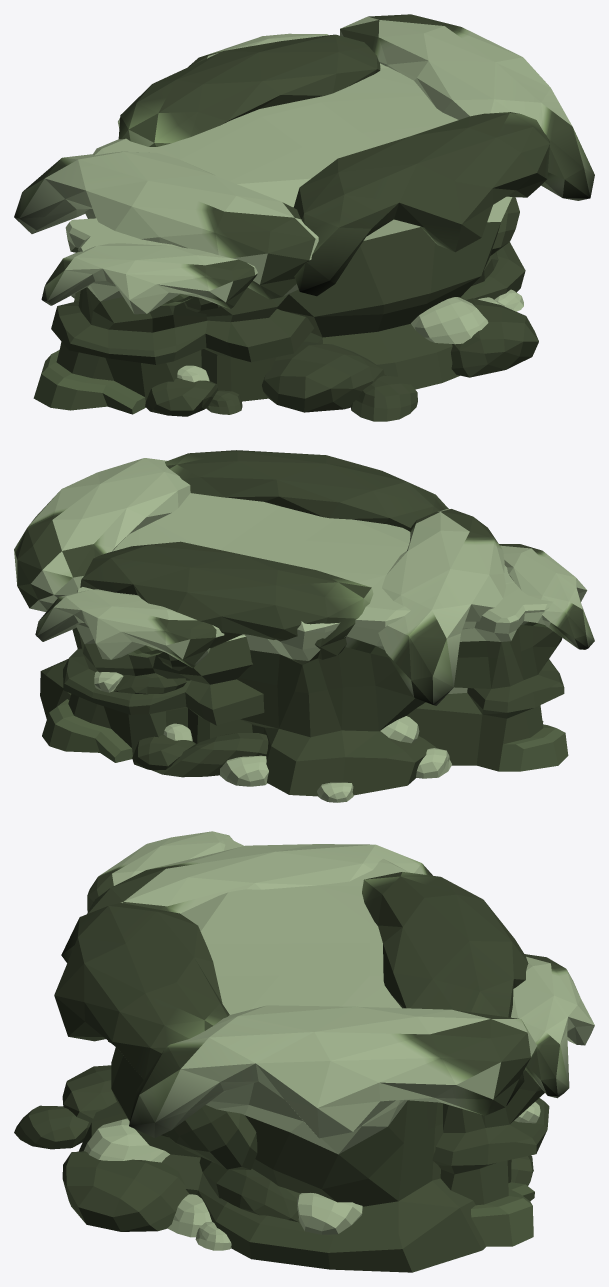
File: EA_Swamp_Island_Small_05b.glb
3 renders of one model, top to bottom at view 1: azimuth 30°, elevation 25°; view 2: azimuth 150°, elevation 25°; view 3: azimuth 270°, elevation 25°, orthographic. The views are drawn at different scales.
Parts seen in each view (by area): view 1: EA_Swamp_Island_Small_05b; view 2: EA_Swamp_Island_Small_05b; view 3: EA_Swamp_Island_Small_05b.
Part boxes in pixels (left/top/right/bottom): EA_Swamp_Island_Small_05b: left=14, top=14, right=594, bottom=421; EA_Swamp_Island_Small_05b: left=14, top=450, right=594, bottom=802; EA_Swamp_Island_Small_05b: left=14, top=831, right=594, bottom=1272.
Size of the model in its own units: 16.43 by 5.93 by 13.43.
Materials: 1 (1 with a texture image).
